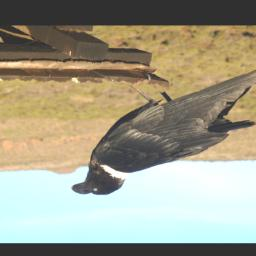Crow: (68, 68, 256, 200)
